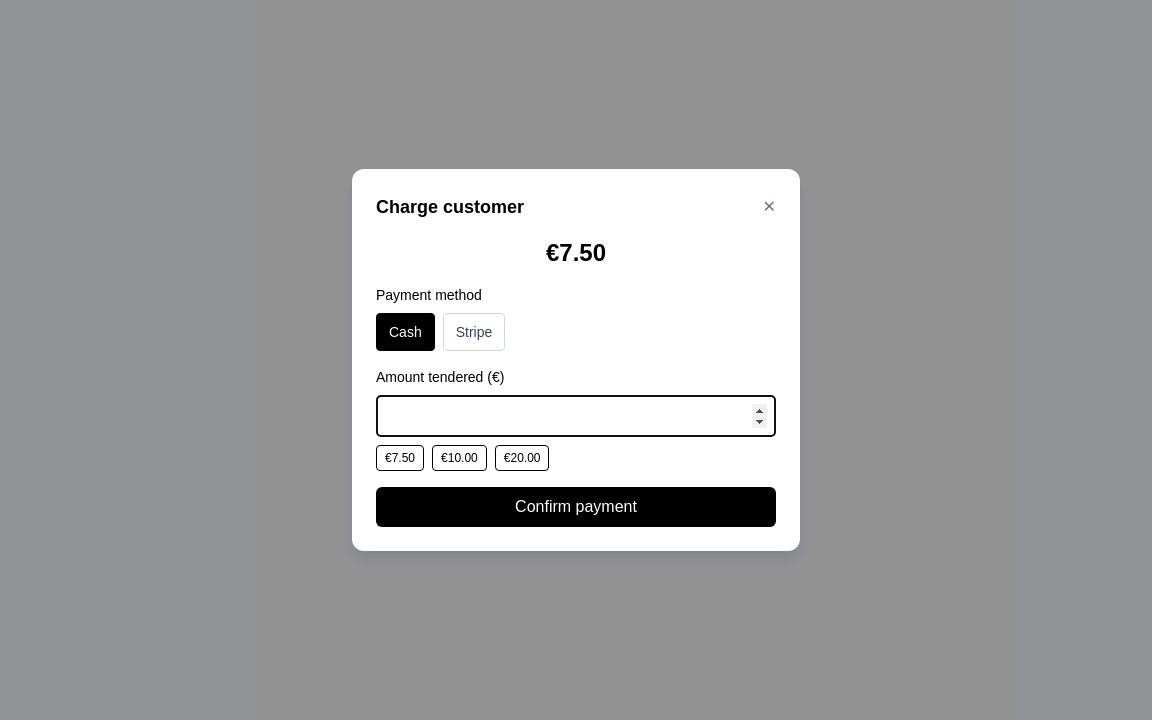
it: ChargeModal › defaults to the first method and computes change due for cash
The width and height of the screenshot is (1152, 720).
Type "10" into the number field at (576, 416), box [376,395,776,437]
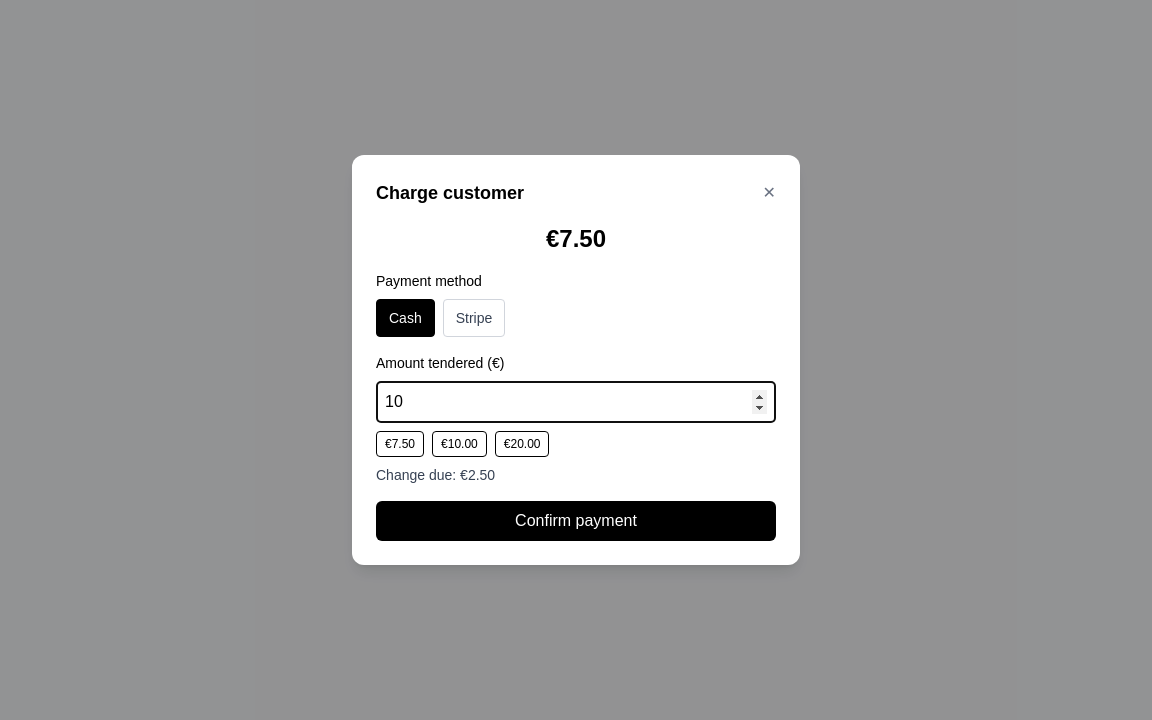
Check: the text "Change due: €2.50" is shown, box [376,467,495,483]
Check: the text "€2.50" is shown, box [460,467,495,483]
